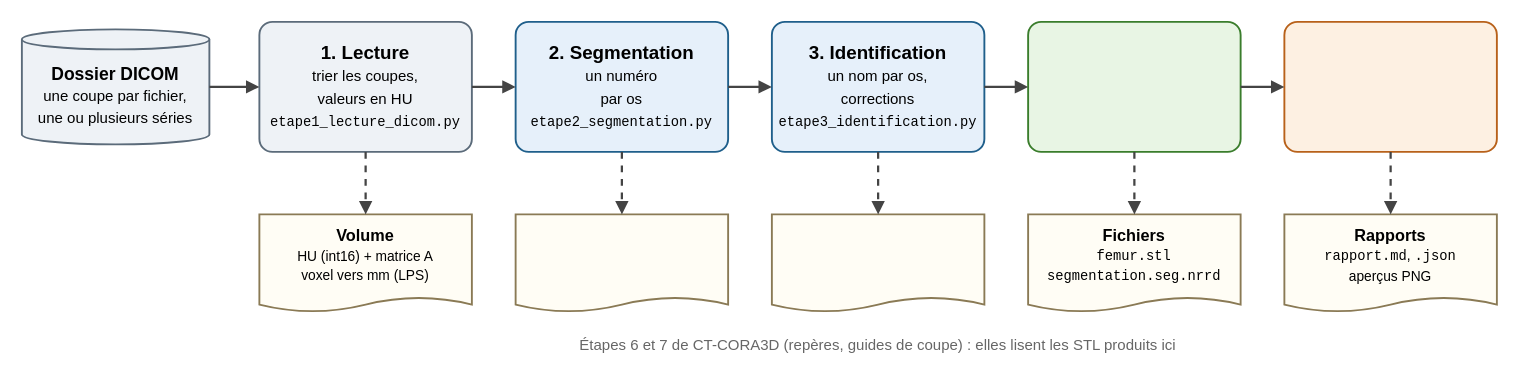
Some shapes in this 1520 by 386 pixel diagram are drawn without their labels. Here are the shapes that lost their labels. From the top down, the box of each, then its label:
(1027, 20, 1241, 152): 4. Maillage une surface fermée par os etape4_maillage.py
(1283, 20, 1497, 152): 5. Contrôle sensibilité au seuil, rapports etape5_controle.py
(514, 213, 728, 312): Étiquettes tableau 3D : 0 = pas d'os, 1, 2, 3...
(770, 213, 985, 312): Noms et repères fémur, tibia, fibula... tête fémorale
